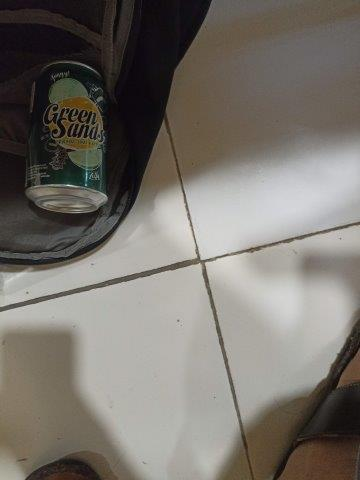kaleng: (25, 61, 108, 213)
